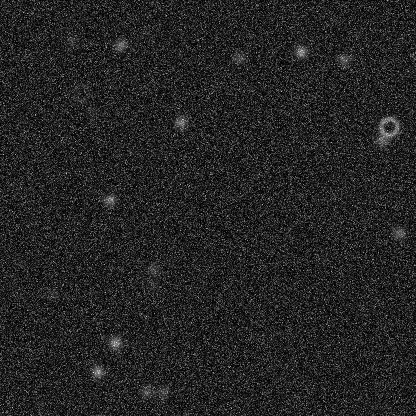Ring: (376, 114, 400, 138), (69, 80, 93, 104)
Spot: (172, 114, 188, 130), (145, 261, 161, 277), (137, 384, 153, 400), (64, 32, 80, 48), (390, 225, 406, 241), (335, 51, 351, 67), (373, 132, 389, 148), (143, 275, 159, 291), (84, 102, 100, 118), (101, 192, 117, 208), (44, 286, 60, 302), (293, 43, 309, 59), (112, 37, 128, 53), (230, 49, 246, 65), (89, 363, 105, 379), (155, 383, 171, 399), (107, 334, 123, 350)
